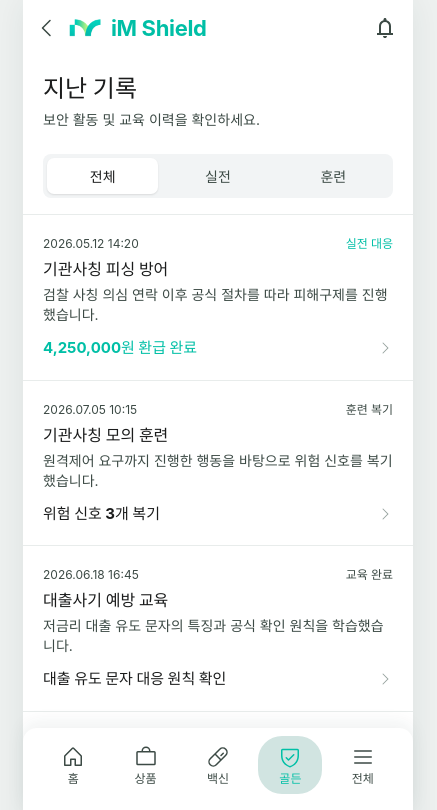
Test case: home report and golden time routes › opens record-specific education and settings review modes
This screenshot has width=437, height=810.
Click the button "대출사기 예방 교육": (218, 629) [23,546,413,712]
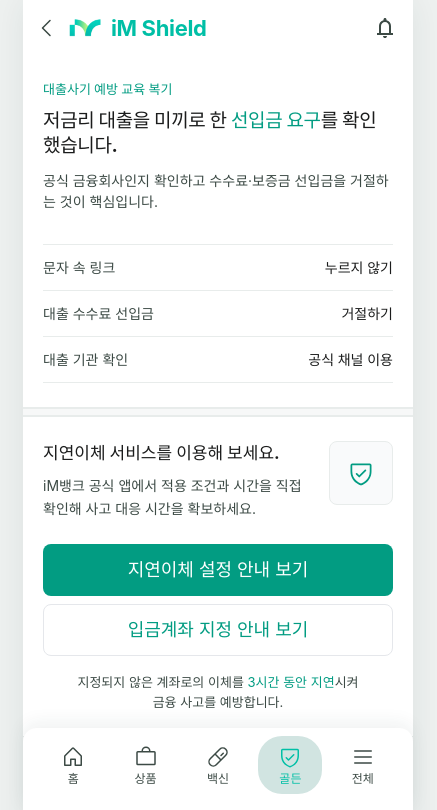
Check: the heading "대출사기 예방 교육 복기" is shown, box [43,81,172,97]
